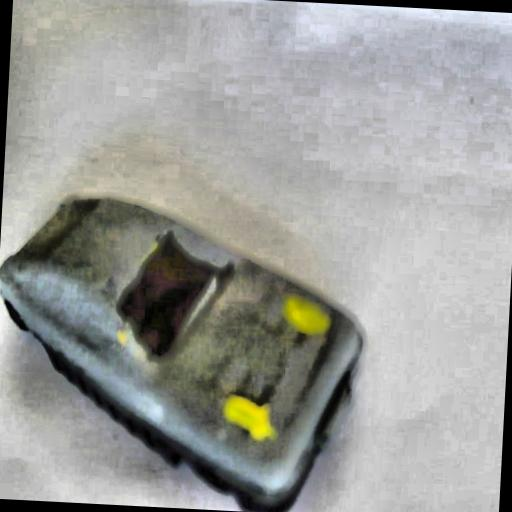normal_car: (0, 171, 379, 512)
